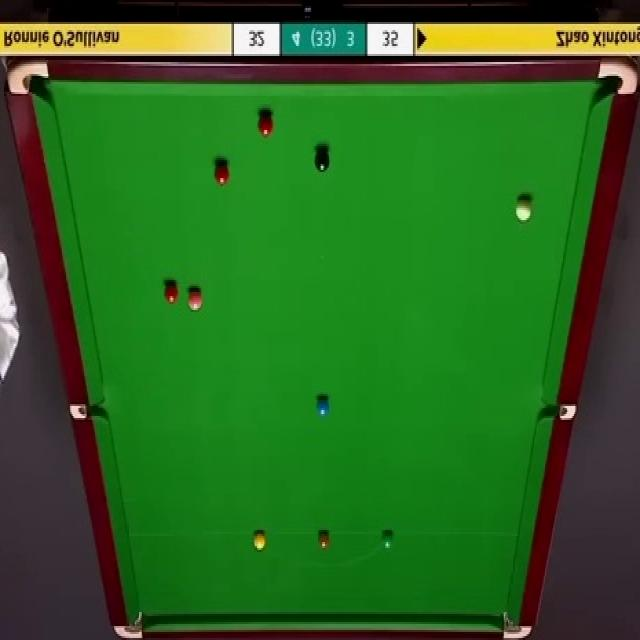pocket: (597, 59, 638, 99), (8, 64, 48, 96), (500, 610, 535, 640), (113, 612, 144, 640), (68, 401, 103, 421), (542, 401, 578, 420)
